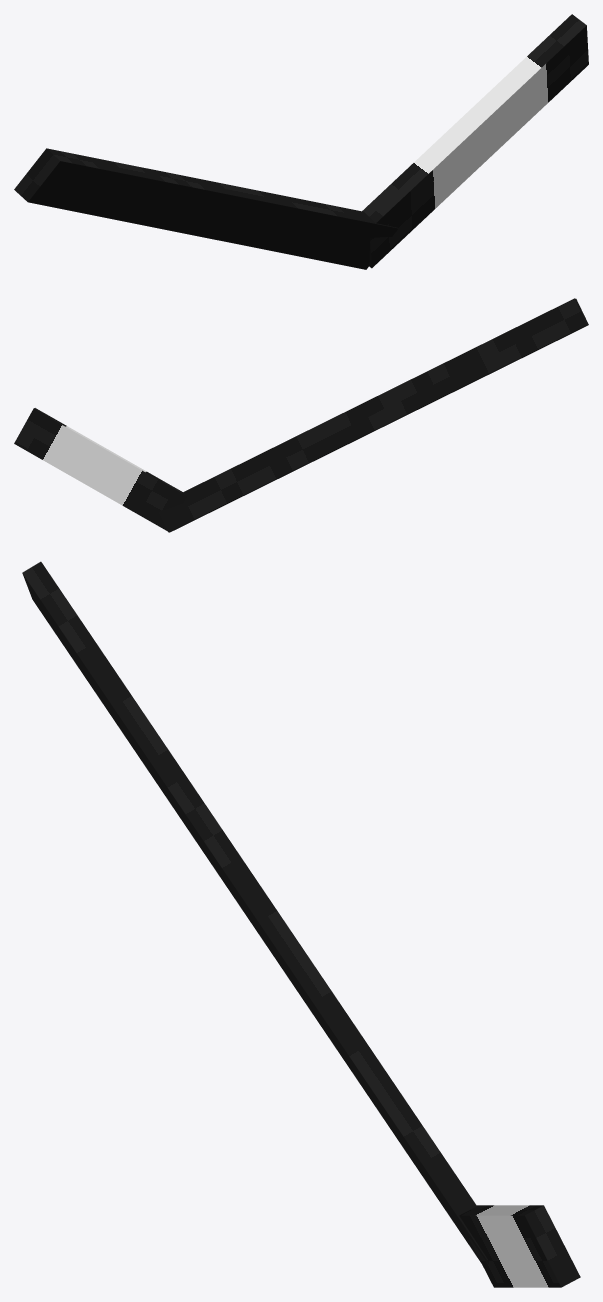
The model's file is hockey-stick-idle.gltf.
3 views of the same model, one above another, from view 1: azimuth 30°, elevation 25°; view 2: azimuth 150°, elevation 25°; view 3: azimuth 270°, elevation 25° (orthographic). The views are drawn at different scales.
Visible parts, largest first — view 1: geo_shaft_geom_0, geo_blade_geom_0; view 2: geo_shaft_geom_0, geo_blade_geom_0; view 3: geo_shaft_geom_0, geo_blade_geom_0.
Part boxes in pixels (bbox=[...]): geo_shaft_geom_0: bbox=[14, 148, 398, 269]; geo_blade_geom_0: bbox=[362, 14, 588, 268]; geo_shaft_geom_0: bbox=[158, 298, 588, 532]; geo_blade_geom_0: bbox=[14, 408, 186, 530]; geo_shaft_geom_0: bbox=[22, 561, 489, 1265]; geo_blade_geom_0: bbox=[459, 1205, 580, 1287].
Bounding box in the file's own units: 1.27 × 0.606 × 0.693.
Materials: 2 (2 with a texture image).
